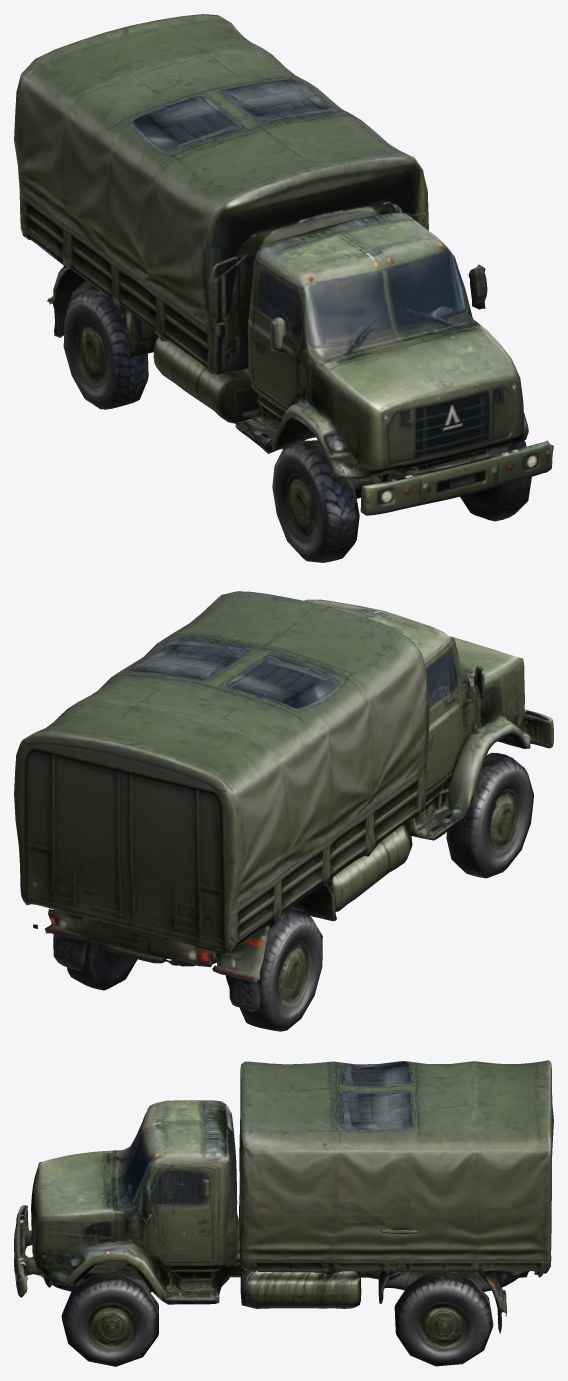
Rendered from truck.glb.
3 views of the same model, one above another, from view 1: azimuth 30°, elevation 25°; view 2: azimuth 150°, elevation 25°; view 3: azimuth 270°, elevation 25° (orthographic). The views are drawn at different scales.
Parts seen in each view (by area): view 1: Mesh1_Mesh1.030; view 2: Mesh1_Mesh1.030; view 3: Mesh1_Mesh1.030.
Part boxes in pixels (box(x1,y1,x2,y2)): Mesh1_Mesh1.030: box(14, 14, 553, 562); Mesh1_Mesh1.030: box(14, 591, 553, 1031); Mesh1_Mesh1.030: box(14, 1060, 553, 1366).
Size of the model in its own units: 0.8907 by 0.9917 by 1.99.
1 material, 1 textured.
